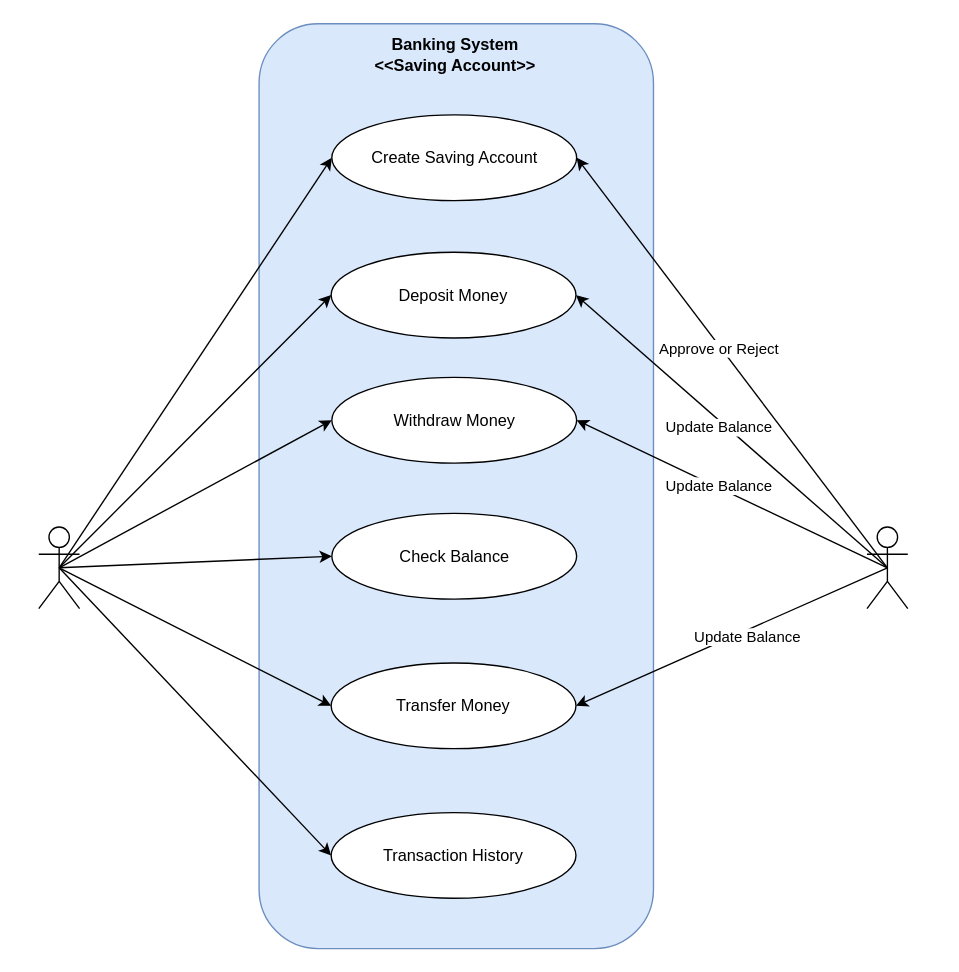
This 959x972 diagram has some shape labels left out. Each missing label, with the centre of its shape:
"Bank System" belongs at [887,567].
"Customer" belongs at [58,567].
